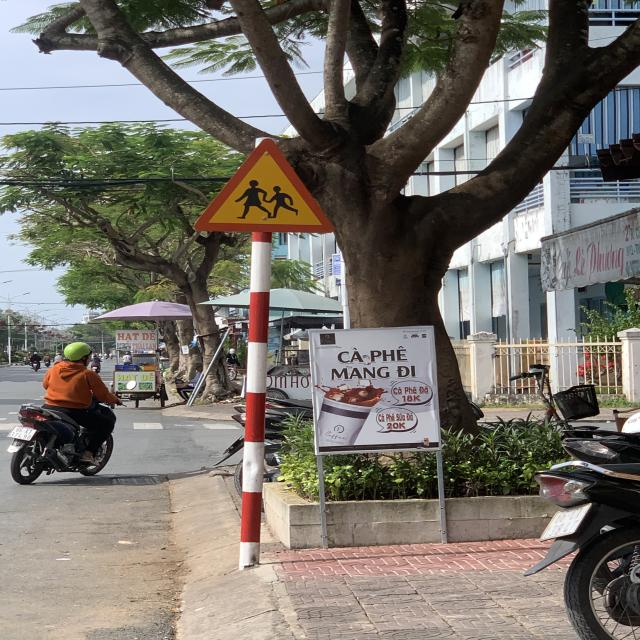Vong_Xuyen: (192, 138, 333, 234)
